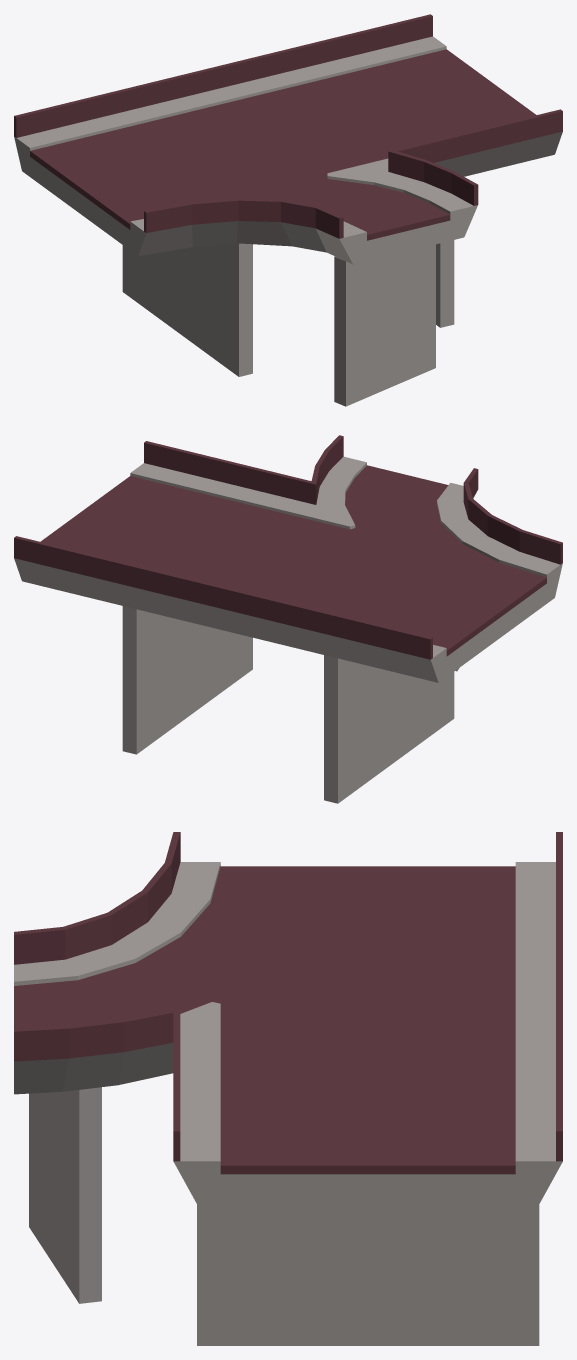
Rendered from bridge-mainroad-ramp.fbx.
3 views of the same model, one above another, from view 1: azimuth 30°, elevation 25°; view 2: azimuth 150°, elevation 25°; view 3: azimuth 270°, elevation 25° (orthographic). The views are drawn at different scales.
Visible parts, largest first — view 1: bridge-mainroad-ramp; view 2: bridge-mainroad-ramp; view 3: bridge-mainroad-ramp.
Part boxes in pixels (<box>): bridge-mainroad-ramp: <box>14,14,562,406</box>; bridge-mainroad-ramp: <box>14,435,562,803</box>; bridge-mainroad-ramp: <box>14,832,562,1345</box>.
Bounding box in the file's own units: 3000 × 1340 × 2325.
